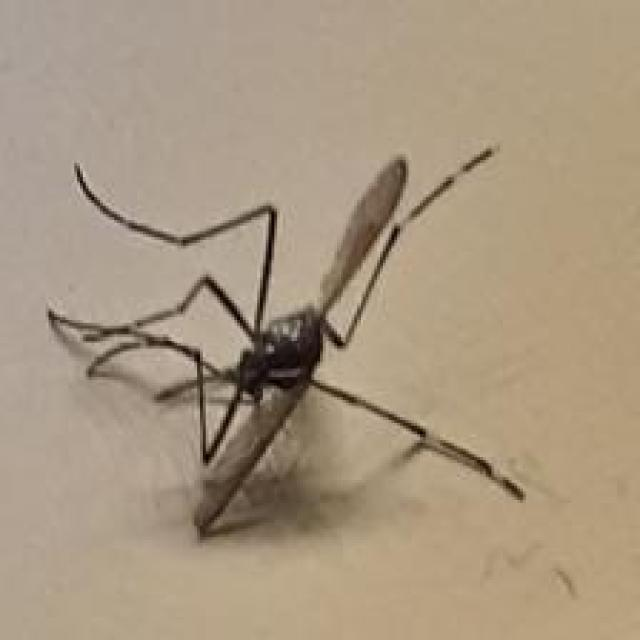Aedes albopictus: (44, 144, 527, 539)
